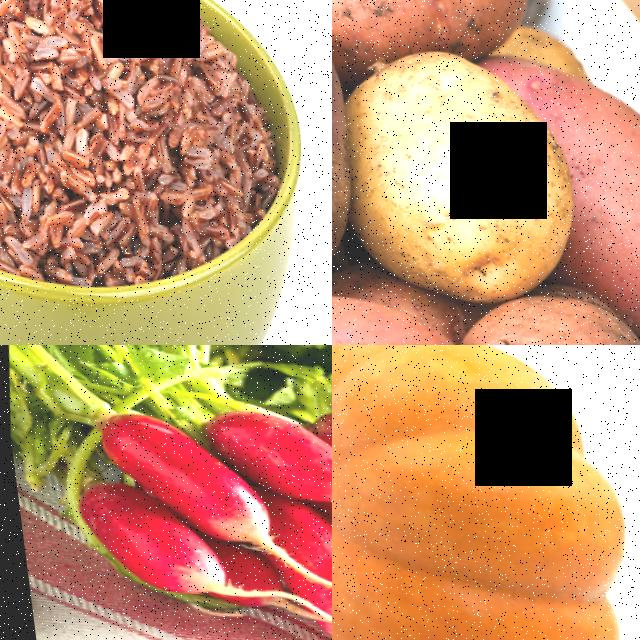potato: (332, 40, 584, 297), (455, 291, 640, 345)
pumpkin: (332, 345, 640, 640)
radishes: (0, 345, 332, 640)
red rice: (0, 0, 304, 294)
